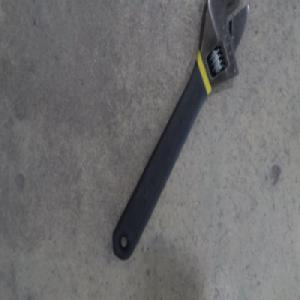AdjustableWrench: (113, 4, 245, 260)
